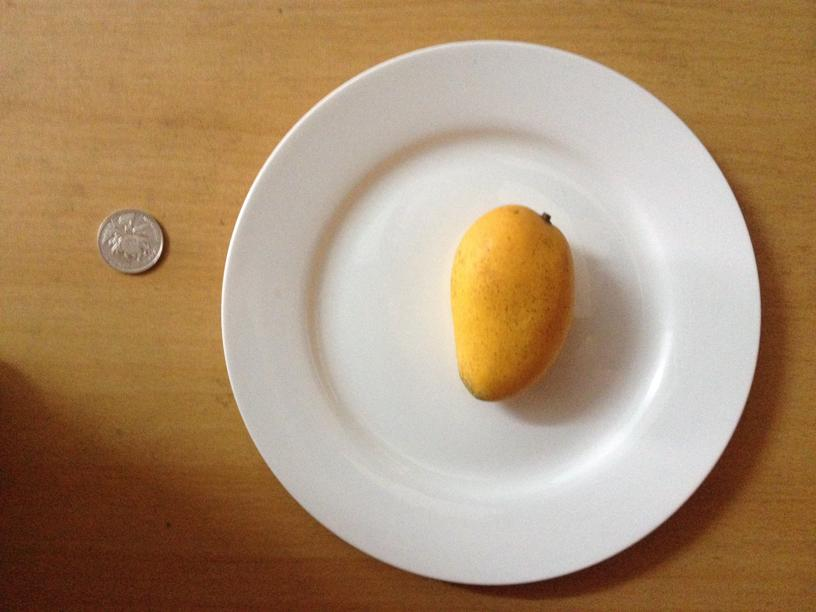coin: (98, 206, 164, 274)
mango: (450, 202, 573, 400)
